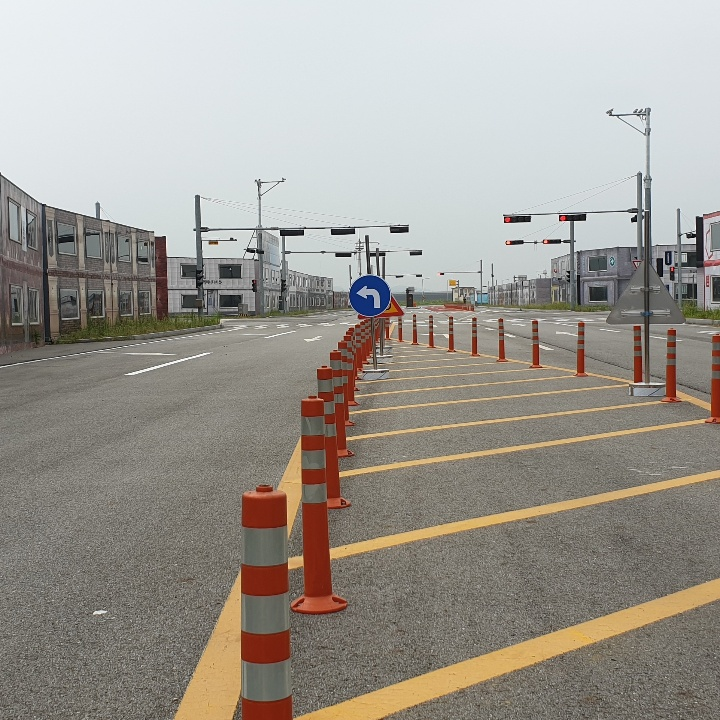left: (354, 283, 382, 312)
